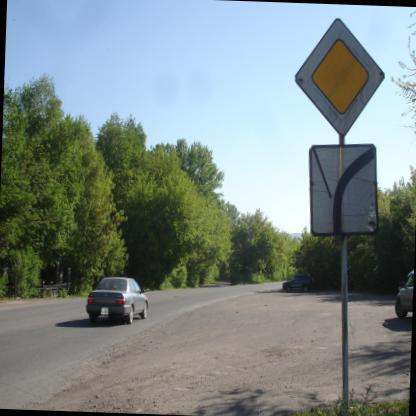road_sign: (296, 19, 384, 136), (310, 144, 375, 235)
